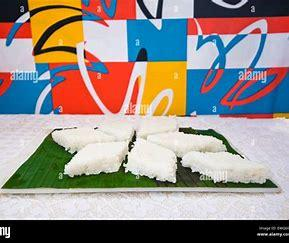Kiribath: (47, 119, 272, 201)
